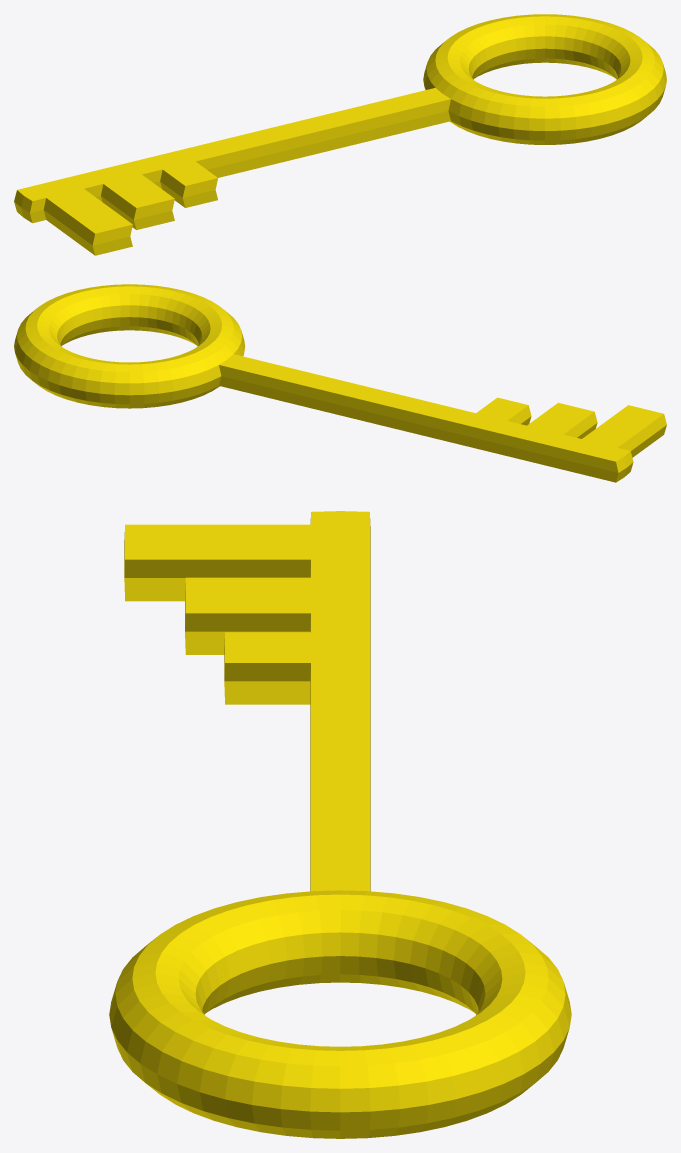
Rendered from Key1.fbx.
3 views of the same model, one above another, from view 1: azimuth 30°, elevation 25°; view 2: azimuth 150°, elevation 25°; view 3: azimuth 270°, elevation 25° (orthographic). The views are drawn at different scales.
Parts seen in each view (by area): view 1: Torus.001; view 2: Torus.001; view 3: Torus.001.
Part boxes in pixels (<box>): Torus.001: <box>14,14,666,255</box>; Torus.001: <box>14,284,666,482</box>; Torus.001: <box>109,511,571,1138</box>.
Size of the model in its own units: 746 by 50 by 250.
